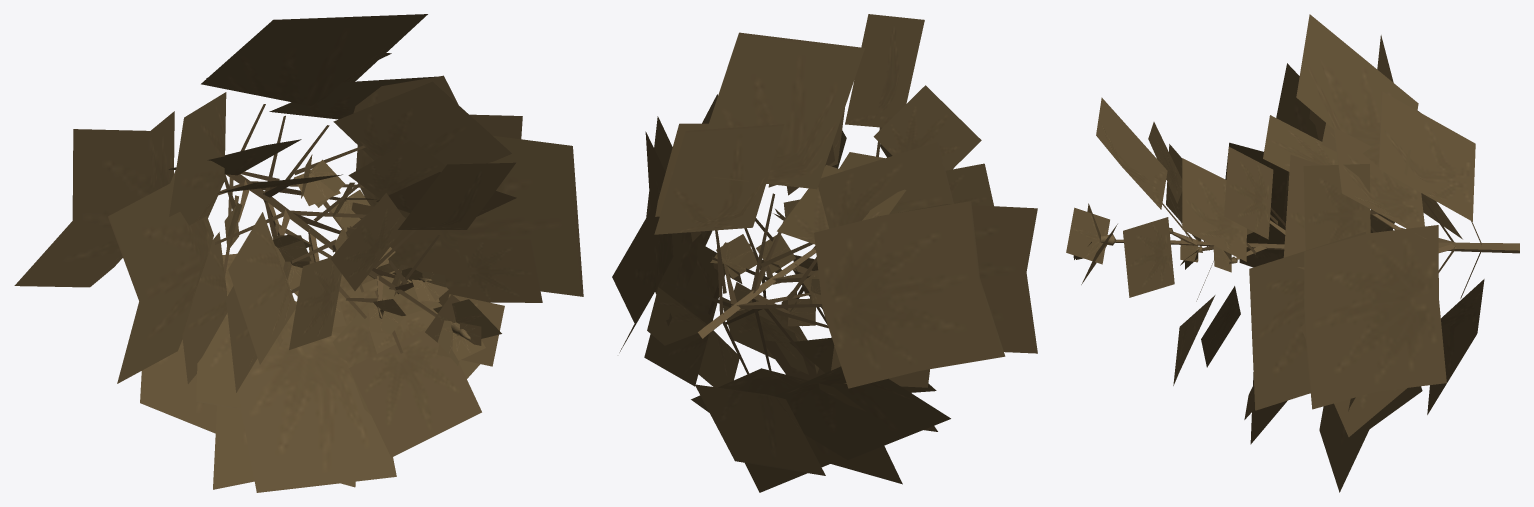
Rendered from p_landrace_preflower_c3_cards.obj.
3 renders of one model, left to right at view 1: azimuth 30°, elevation 25°; view 2: azimuth 150°, elevation 25°; view 3: azimuth 270°, elevation 25°, orthographic. The views are drawn at different scales.
Bounding box in the file's own units: 1.7 × 1.69 × 1.59.
1 material, 1 textured.
